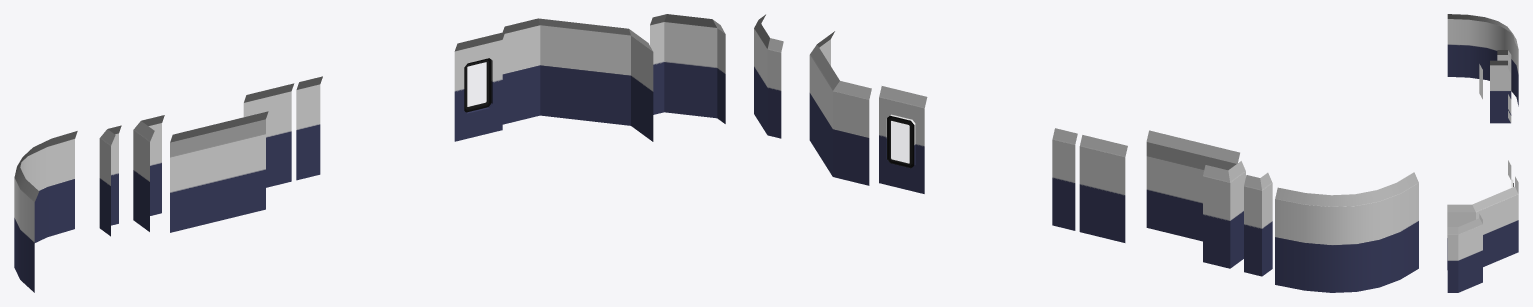
The model's file is BackfaceAssets.fbx.
3 views of the same model, side by side, from view 1: azimuth 30°, elevation 25°; view 2: azimuth 150°, elevation 25°; view 3: azimuth 270°, elevation 25° (orthographic). The views are drawn at different scales.
Parts seen in each view (by area): view 1: Diagonal_Wall_003, Wall002, Diagnoal_Wall_003, Curve_Wall_002, Window_Wall001, Small_Wall001, Corner003, Quarter_Wall001, Corner004, Window; view 2: Curve_Wall_002, Diagonal_Wall_003, Wall002, Small_Wall001, Corner003, Window_Wall001, Corner004, Diagnoal_Wall_003, Quarter_Wall001, Window; view 3: Curve_Wall_002, Diagonal_Wall_003, Diagnoal_Wall_003, Corner003, Corner004, Wall002, Window_Wall001, Small_Wall001.
Boxes of the visible parts, <box> form: Diagonal_Wall_003: <box>502,18,653,141</box>; Wall002: <box>170,111,268,232</box>; Diagnoal_Wall_003: <box>650,14,725,123</box>; Curve_Wall_002: <box>14,131,77,292</box>; Window_Wall001: <box>454,32,504,141</box>; Small_Wall001: <box>243,83,294,187</box>; Corner003: <box>133,115,164,231</box>; Quarter_Wall001: <box>296,76,322,180</box>; Corner004: <box>99,125,121,236</box>; Window: <box>464,58,491,112</box>; Curve_Wall_002: <box>1275,172,1418,292</box>; Diagonal_Wall_003: <box>809,31,871,185</box>; Wall002: <box>1146,130,1239,241</box>; Small_Wall001: <box>1079,135,1127,242</box>; Corner003: <box>1203,161,1245,268</box>; Window_Wall001: <box>879,86,927,193</box>; Corner004: <box>1244,172,1272,276</box>; Diagnoal_Wall_003: <box>754,14,783,138</box>; Quarter_Wall001: <box>1052,128,1077,230</box>; Window: <box>887,115,914,168</box>; Curve_Wall_002: <box>1447,14,1518,106</box>; Diagonal_Wall_003: <box>1447,176,1518,269</box>; Diagnoal_Wall_003: <box>1447,214,1482,292</box>; Corner003: <box>1490,60,1511,123</box>; Corner004: <box>1497,50,1511,64</box>; Wall002: <box>1479,64,1482,99</box>; Window_Wall001: <box>1508,160,1513,187</box>; Small_Wall001: <box>1508,94,1511,113</box>.
Bounding box in the file's own units: 567 × 78.74 × 78.84.
4 materials, 1 textured.
